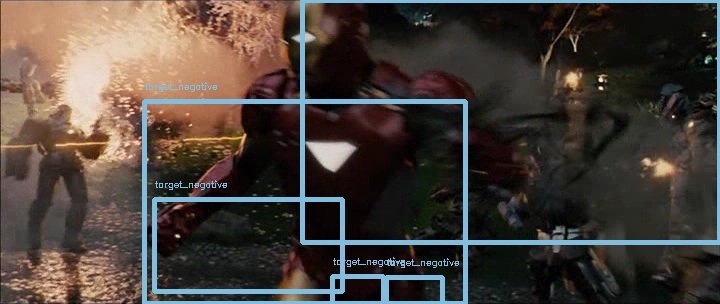person: (280, 4, 356, 90), (279, 4, 355, 90), (281, 4, 357, 90), (280, 3, 356, 89), (280, 5, 356, 91)
target_negative: (404, 16, 584, 84), (230, 247, 599, 278), (177, 210, 308, 252), (543, 10, 592, 61), (615, 177, 629, 221), (98, 294, 577, 295)
